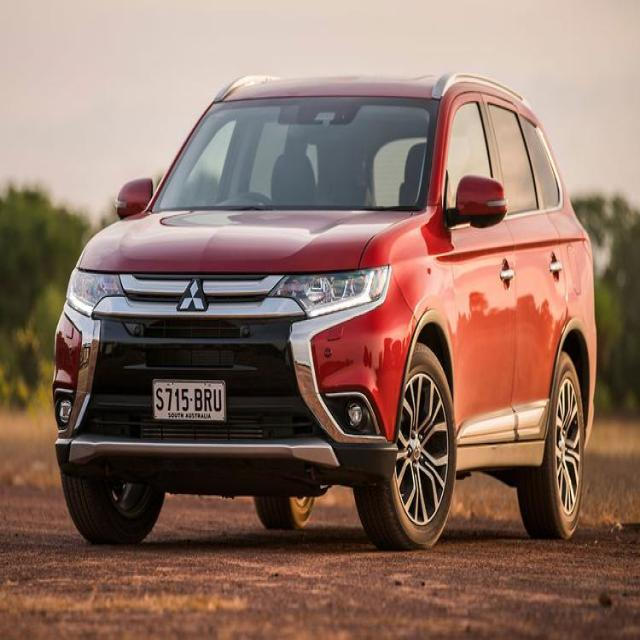light_vehicle: (50, 69, 599, 552)
